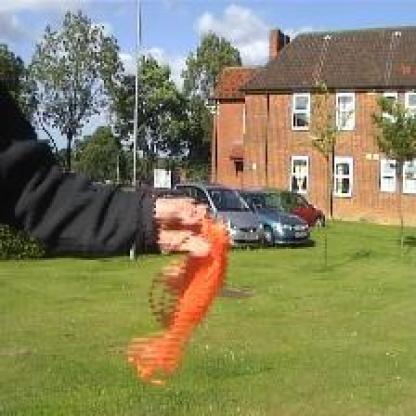other: (133, 216, 225, 378)
